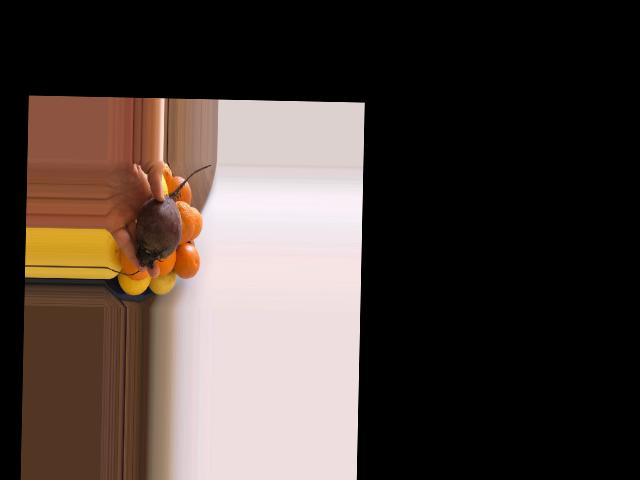beet: (134, 163, 210, 268)
